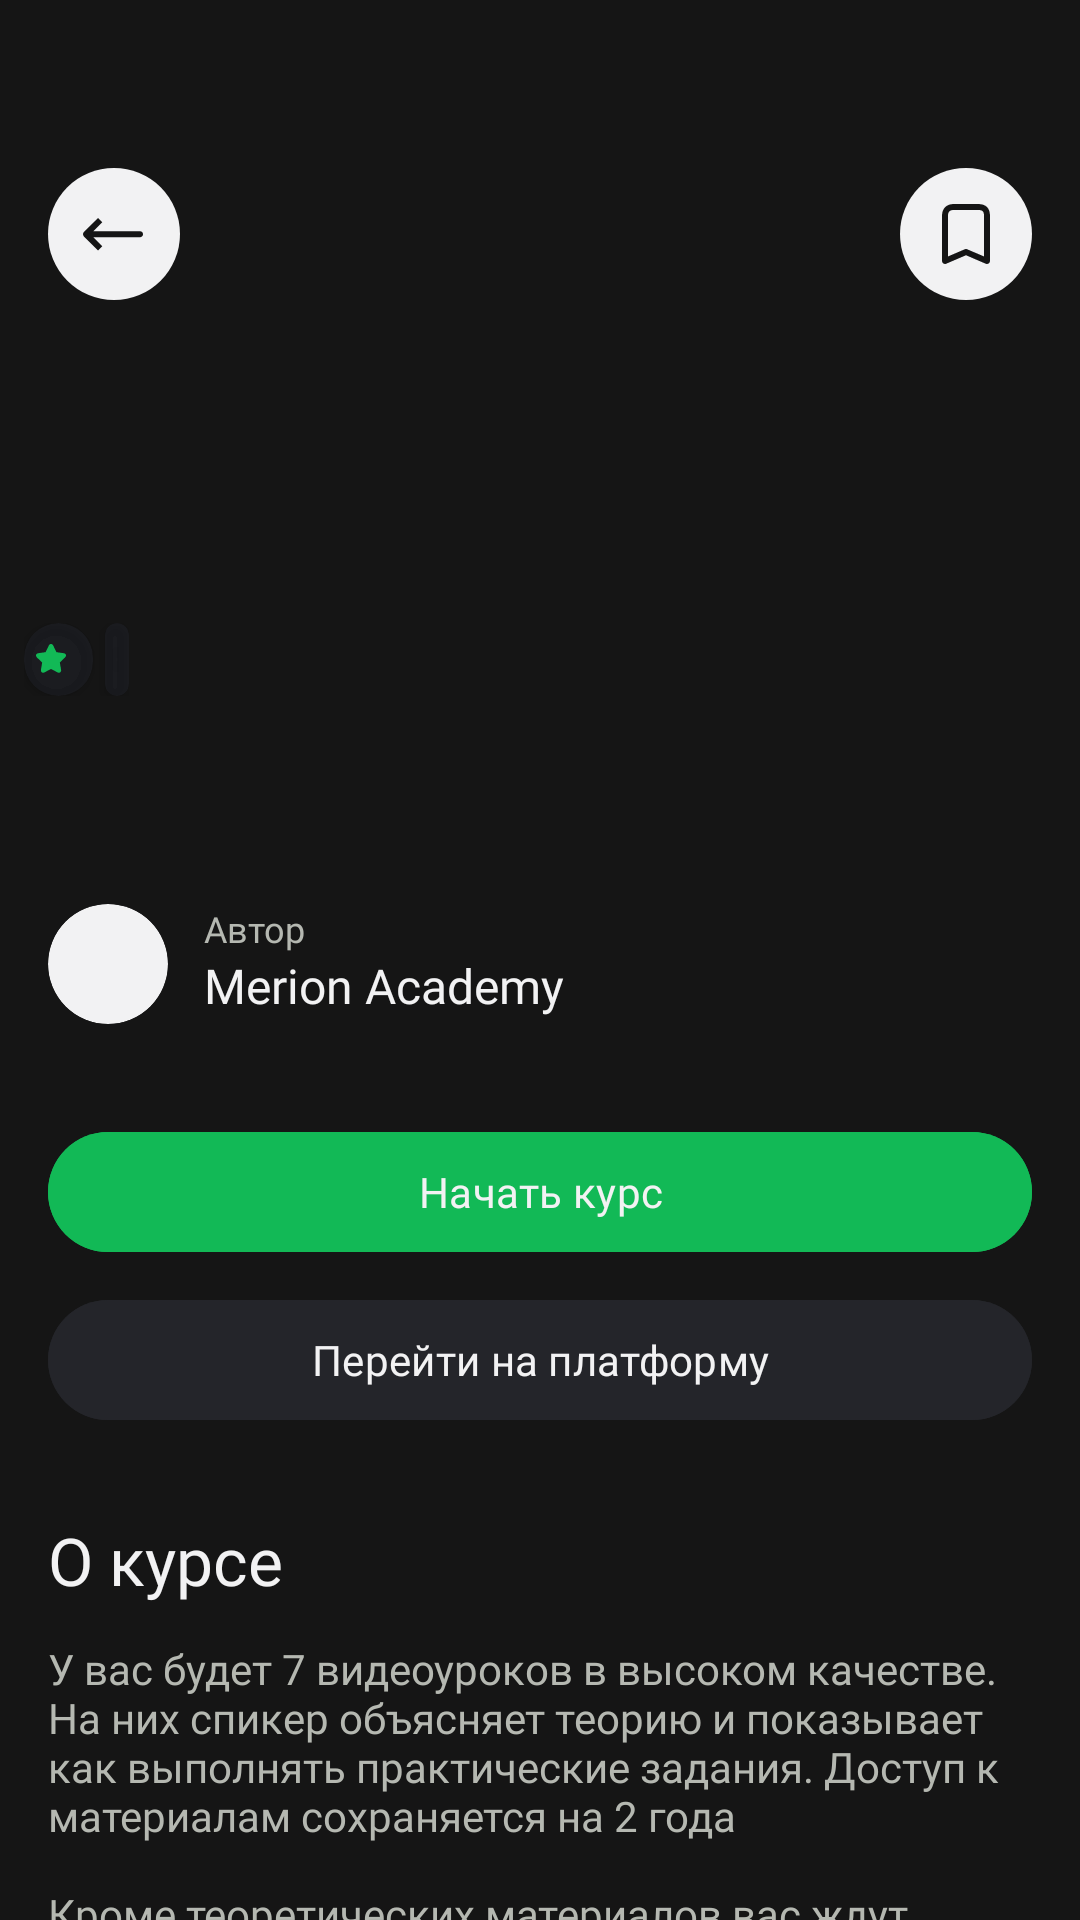

Named icons in this screenshot (1080w x 1920h) and their centers, (x=x, y=y):
arrow back: (x=114, y=234)
favorites details: (x=966, y=234)
